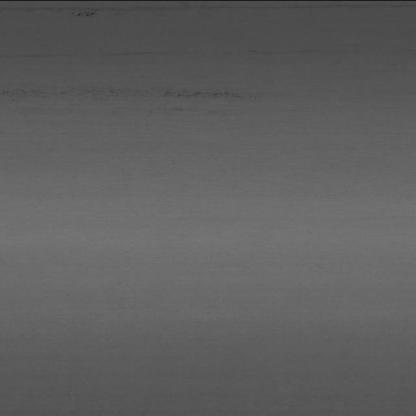inclusion: (5, 81, 256, 103), (66, 6, 106, 20)
